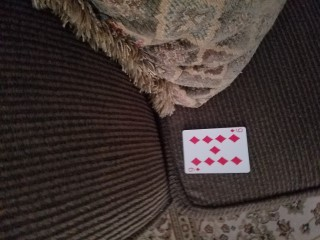NineOfDiamonds: (182, 125, 250, 174)
